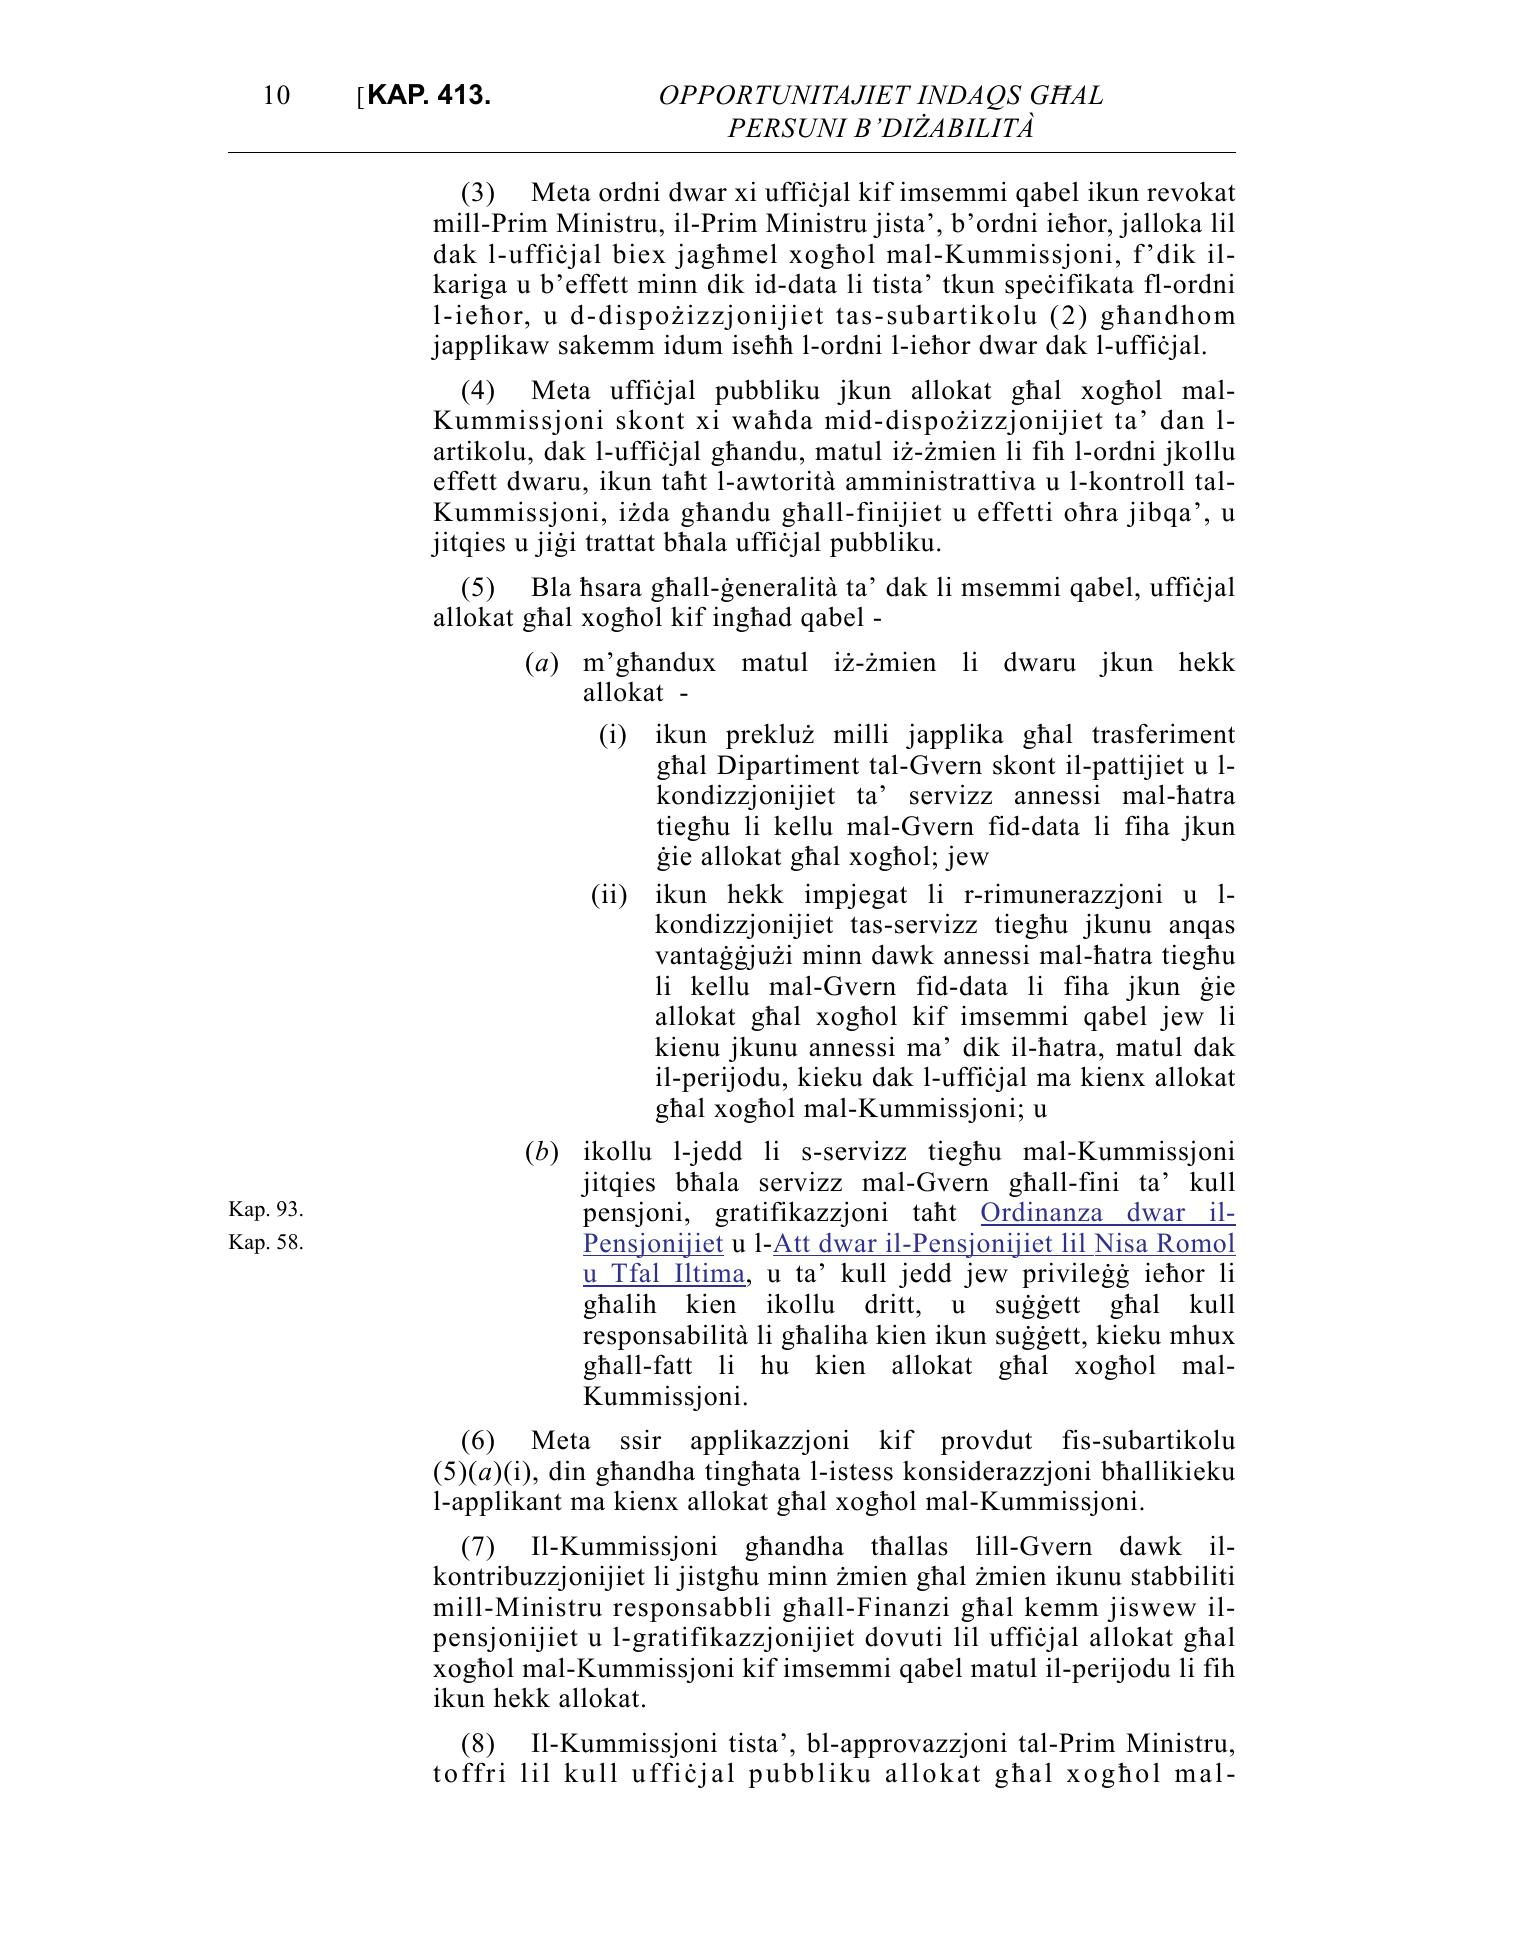text: (412, 164, 1250, 1797)
